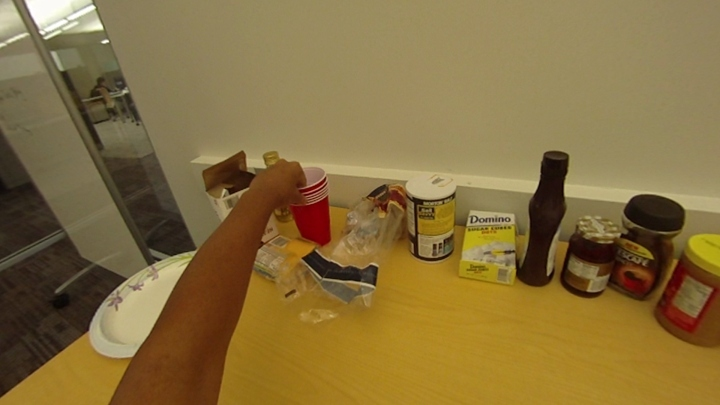hand: (247, 156, 308, 208)
